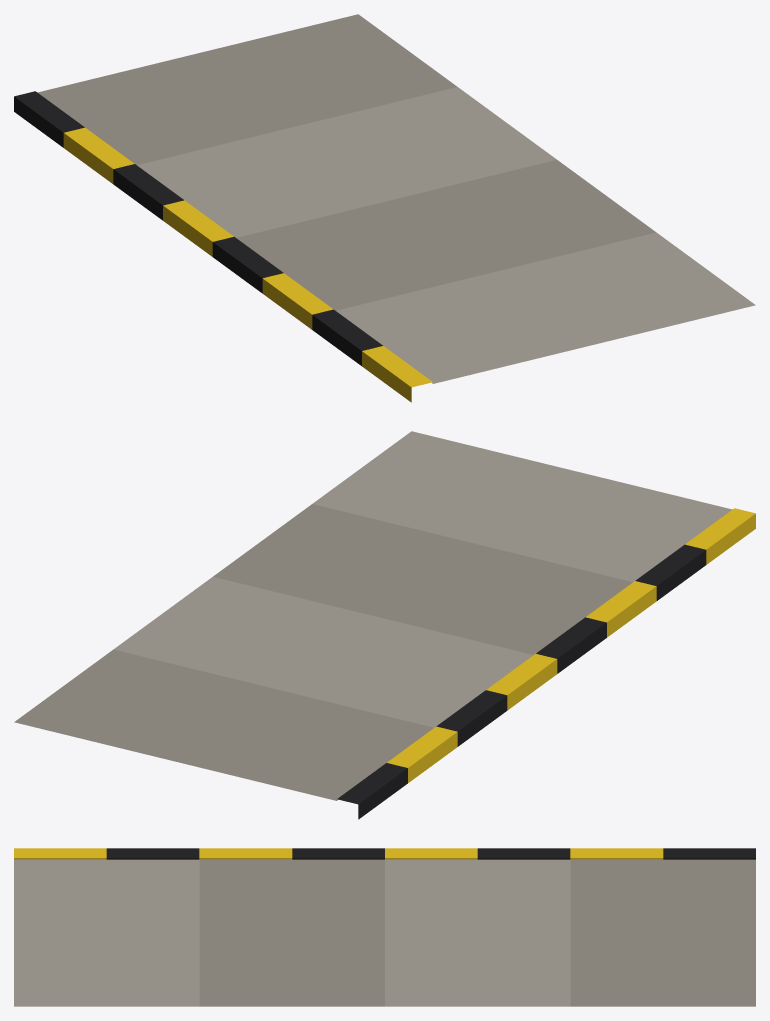
The model's file is road_sidewalk.glb.
3 renders of one model, top to bottom at view 1: azimuth 30°, elevation 25°; view 2: azimuth 150°, elevation 25°; view 3: azimuth 270°, elevation 25°, orthographic. The views are drawn at different scales.
Visible parts, largest first — view 1: road_sidewalk; view 2: road_sidewalk; view 3: road_sidewalk.
Part boxes in pixels (x1,y1,x2,y2): road_sidewalk: (14,14,755,402); road_sidewalk: (14,431,755,819); road_sidewalk: (14,848,755,1006).
Size of what is drawn, in the model's own units: 4 by 0.17 by 8.
